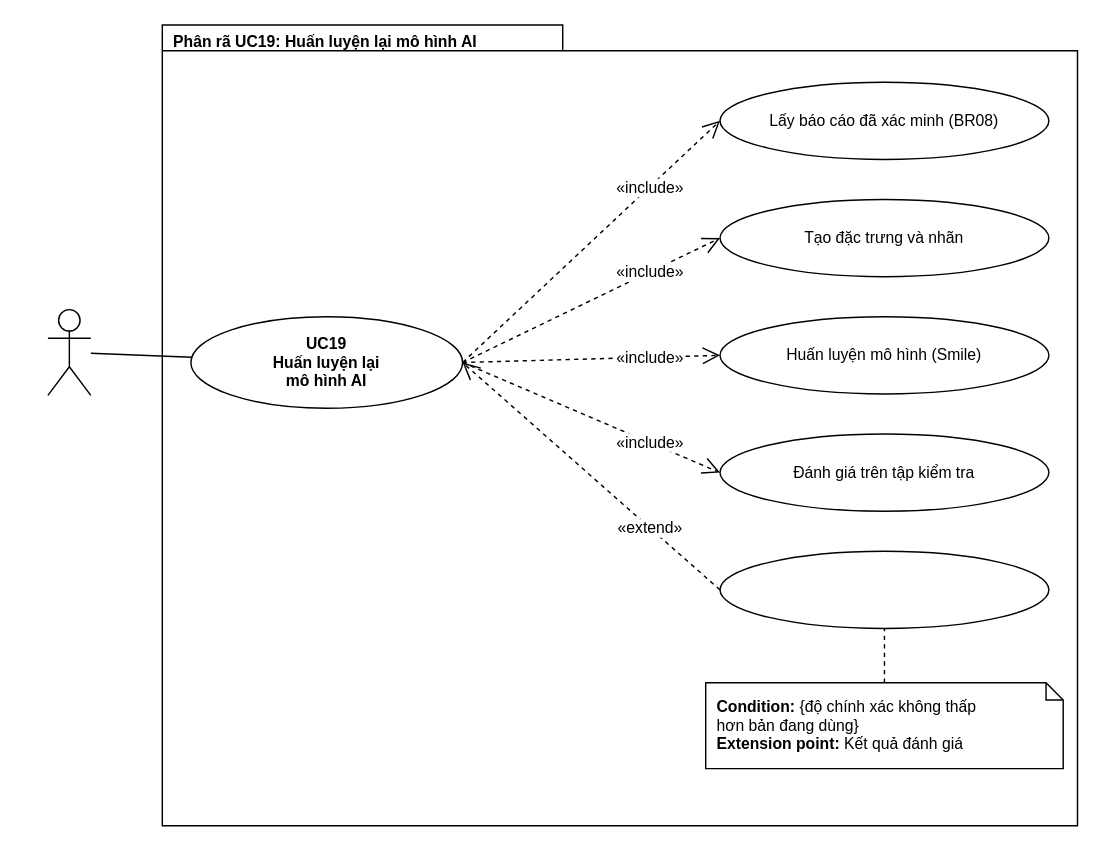
This 1103x851 diagram has some shape labels left out. The centre of each missing label's shape, as x and y in pixels:
Kích hoạt phiên bản mới: (x=884, y=589)
Quản trị viên: (x=68, y=351)
